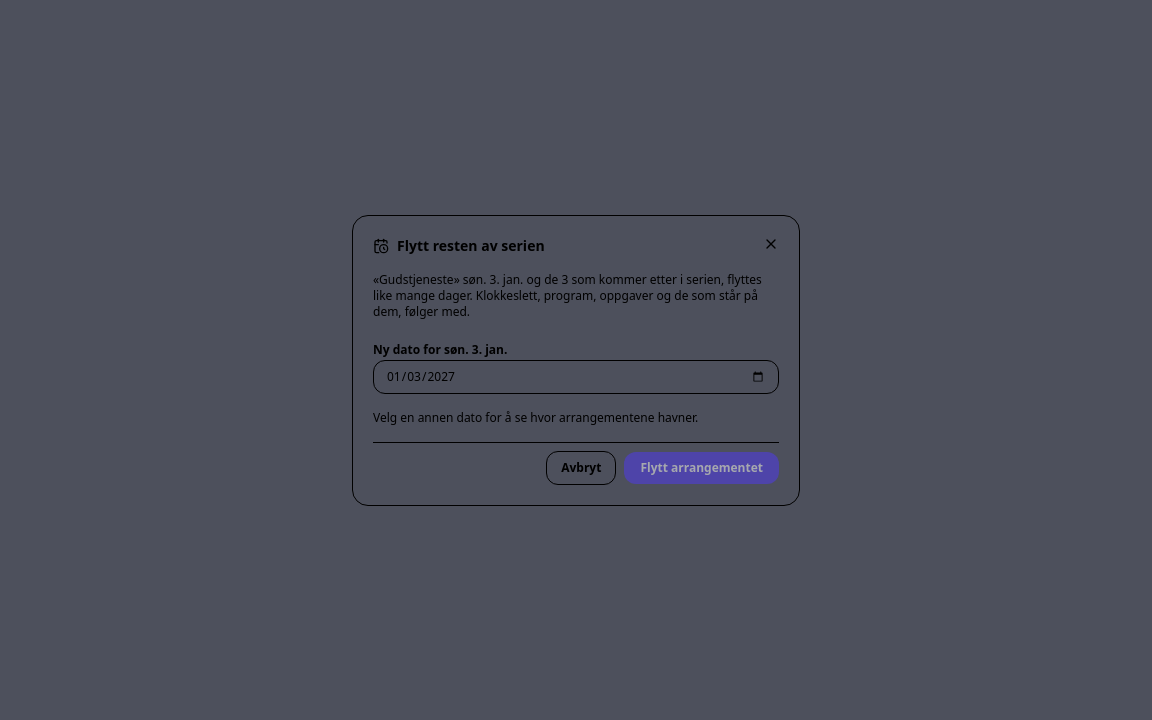
Test case: Skjemaet «Flytt resten av serien» › kan også flytte tilbake
This screenshot has width=1152, height=720.
Type "2026-12-27" into the date field labelled "Ny dato for søn. 3. jan." at (576, 376), box left=373, top=360, right=779, bottom=394
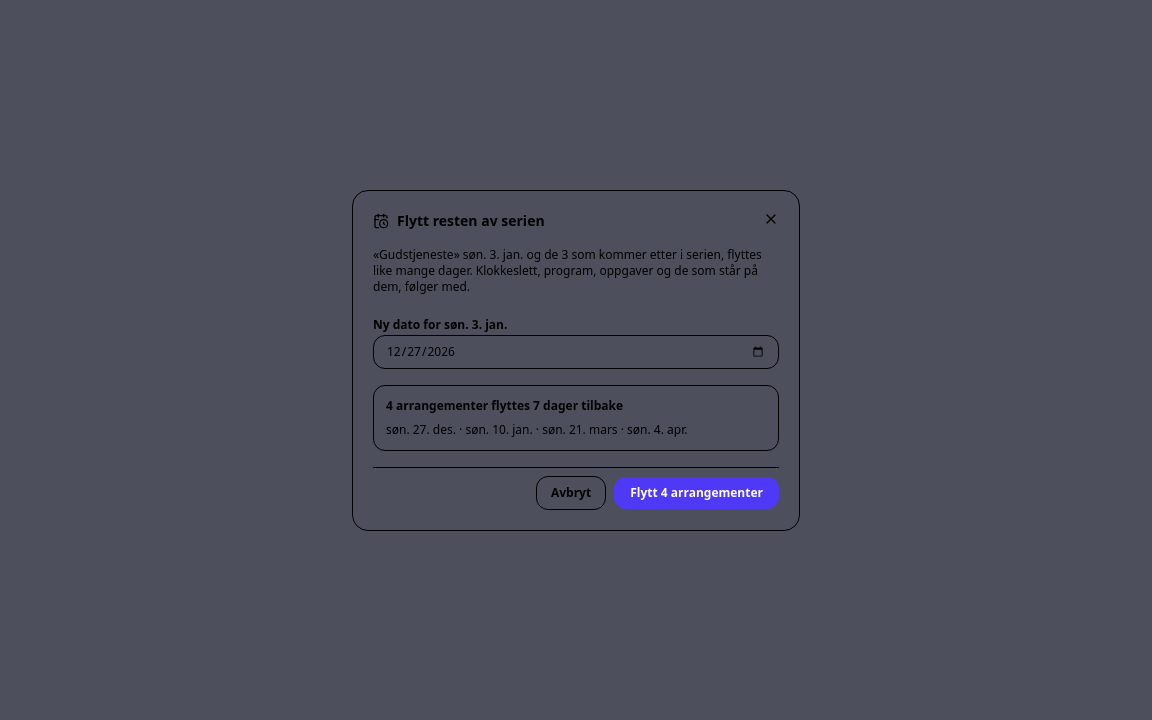
Expected: the text "4 arrangementer flyttes 7 dager tilbake" is shown, left=386, top=396, right=623, bottom=414
